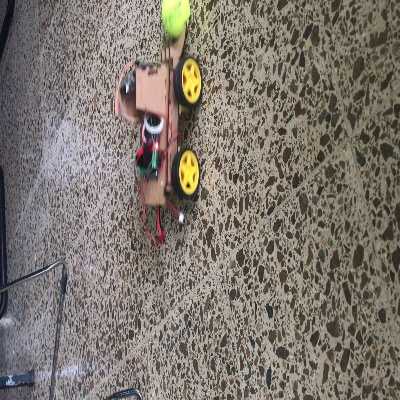Ball: (157, 2, 191, 36)
Robot: (115, 21, 201, 208)
